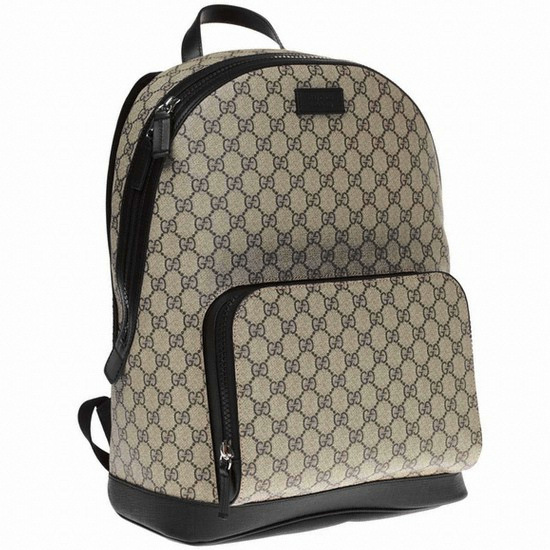Gucci: (93, 32, 491, 537), (206, 146, 413, 251)
